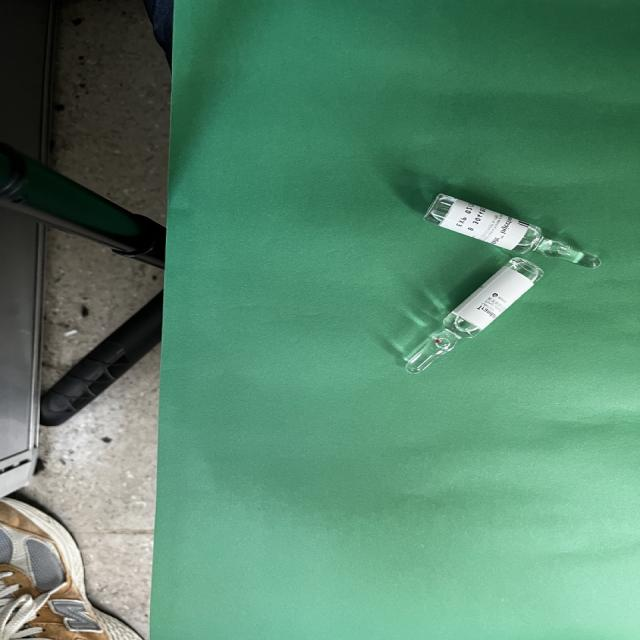Ampoules: (404, 258, 543, 374), (424, 194, 601, 268)
